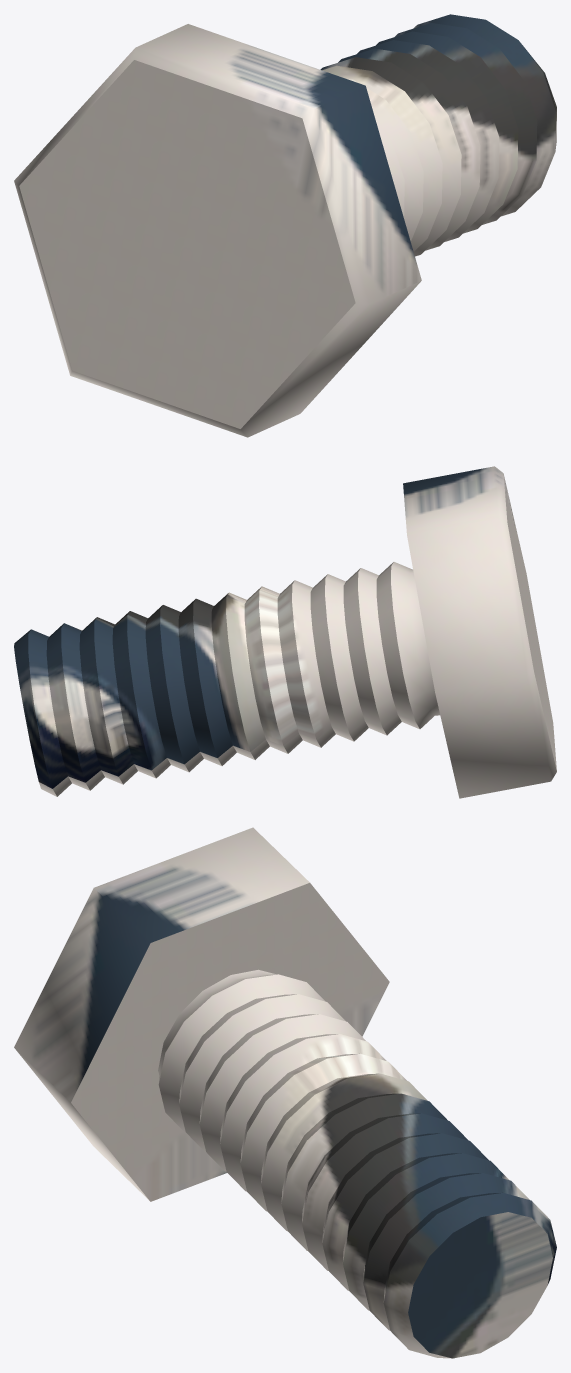
The model's file is nut.fbx.
3 views of the same model, one above another, from view 1: azimuth 30°, elevation 25°; view 2: azimuth 150°, elevation 25°; view 3: azimuth 270°, elevation 25° (orthographic). The views are drawn at different scales.
Parts seen in each view (by area): view 1: nut; view 2: nut; view 3: nut.
Boxes of the visible parts, x1,y1,x2,y2 form: nut: (14, 14, 556, 437); nut: (14, 466, 556, 798); nut: (14, 827, 556, 1358).
Bounding box in the file's own units: 0.1466 × 0.0857 × 0.1268.
